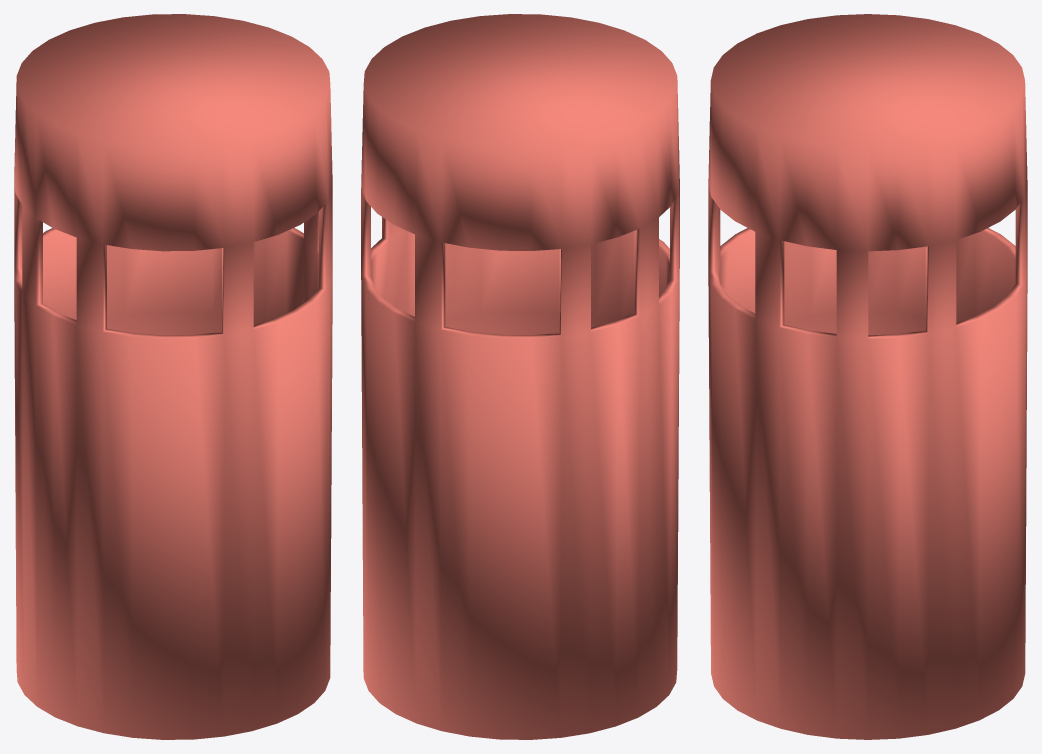
3 renders of one model, left to right at view 1: azimuth 30°, elevation 25°; view 2: azimuth 150°, elevation 25°; view 3: azimuth 270°, elevation 25°, orthographic.
Parts seen in each view (by area): view 1: Base; view 2: Base; view 3: Base.
Boxes of the visible parts, <box> form: Base: <box>14,14,332,739</box>; Base: <box>361,14,679,739</box>; Base: <box>708,14,1027,739</box>.
Bounding box in the file's own units: 7610 × 15605 × 7611.
